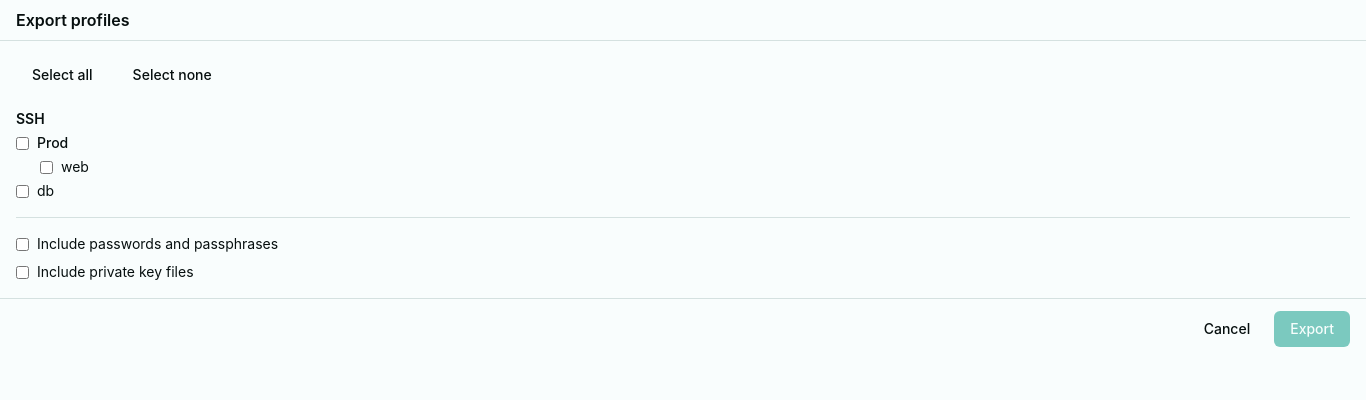
Test: a failed export shows the message without an Error prefix
Click the checkbox labelled "db".
click(22, 191)  # box 16,184 -> 29,198
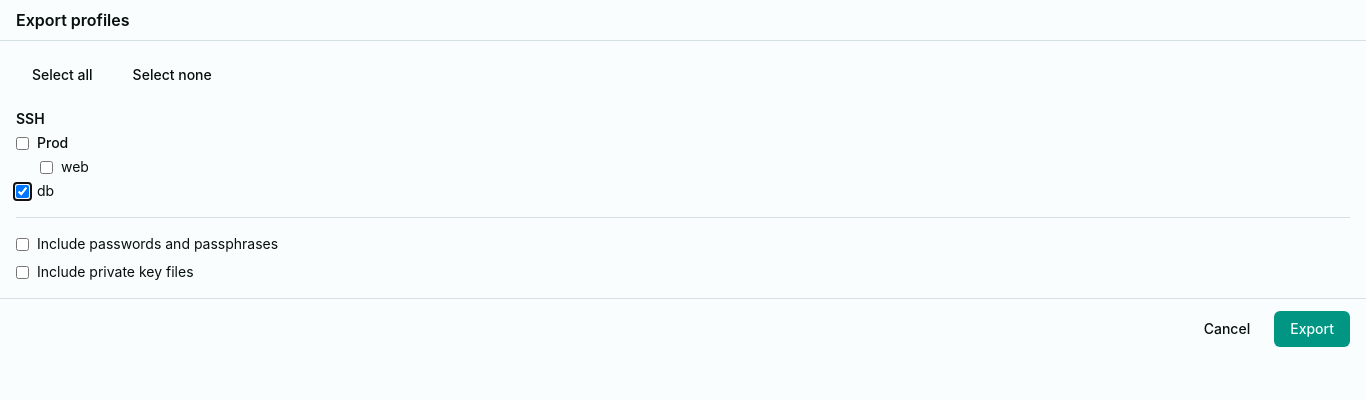
Click the button "Export".
click(1312, 329)  # box 1274,311 -> 1350,347
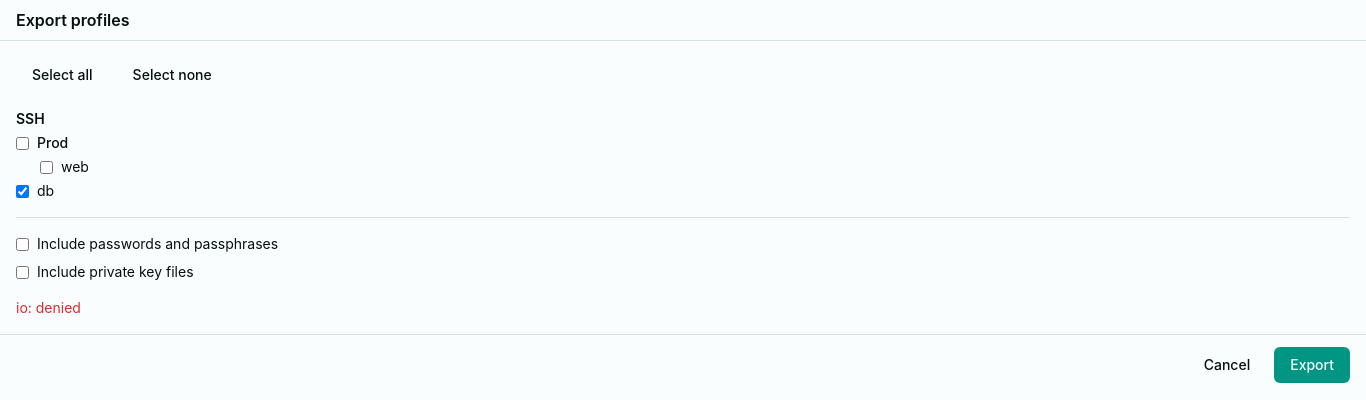
Now the text "io: denied" is shown, box 16,299 -> 81,316
